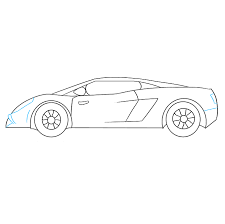car: (2, 73, 222, 140)
